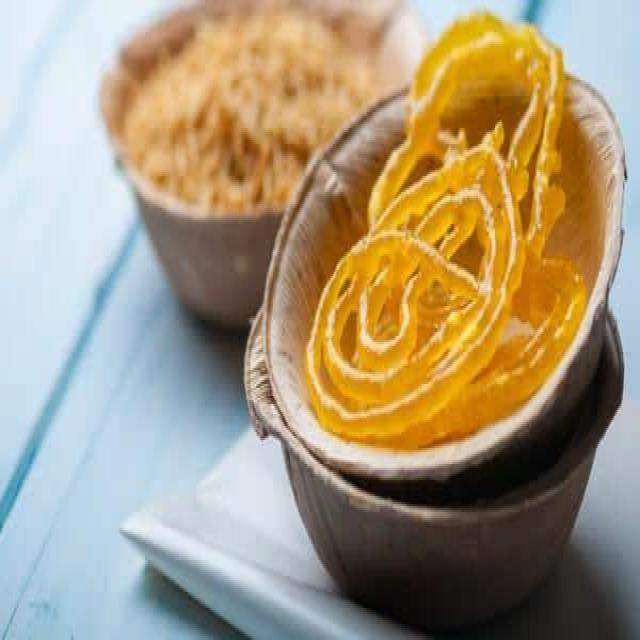jalebi: (320, 35, 595, 449)
